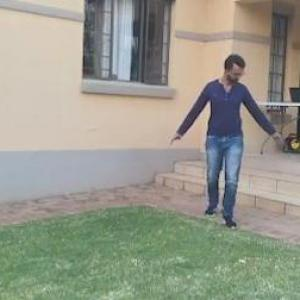land: (166, 51, 278, 236)
